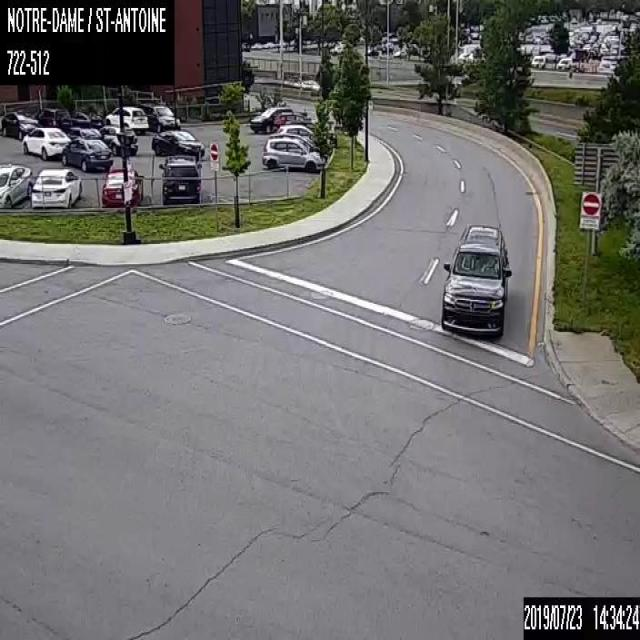vehicle: (439, 221, 513, 343), (158, 155, 202, 205), (30, 167, 81, 209), (261, 139, 324, 170), (22, 125, 72, 159), (61, 137, 113, 169), (151, 128, 204, 159), (101, 168, 143, 206), (0, 160, 33, 208), (1, 109, 42, 140), (249, 104, 293, 132), (104, 105, 148, 132), (99, 124, 138, 154), (140, 103, 180, 132), (268, 132, 320, 151), (275, 111, 313, 131), (38, 108, 72, 128), (276, 124, 312, 140), (71, 110, 102, 126), (68, 126, 102, 140)
